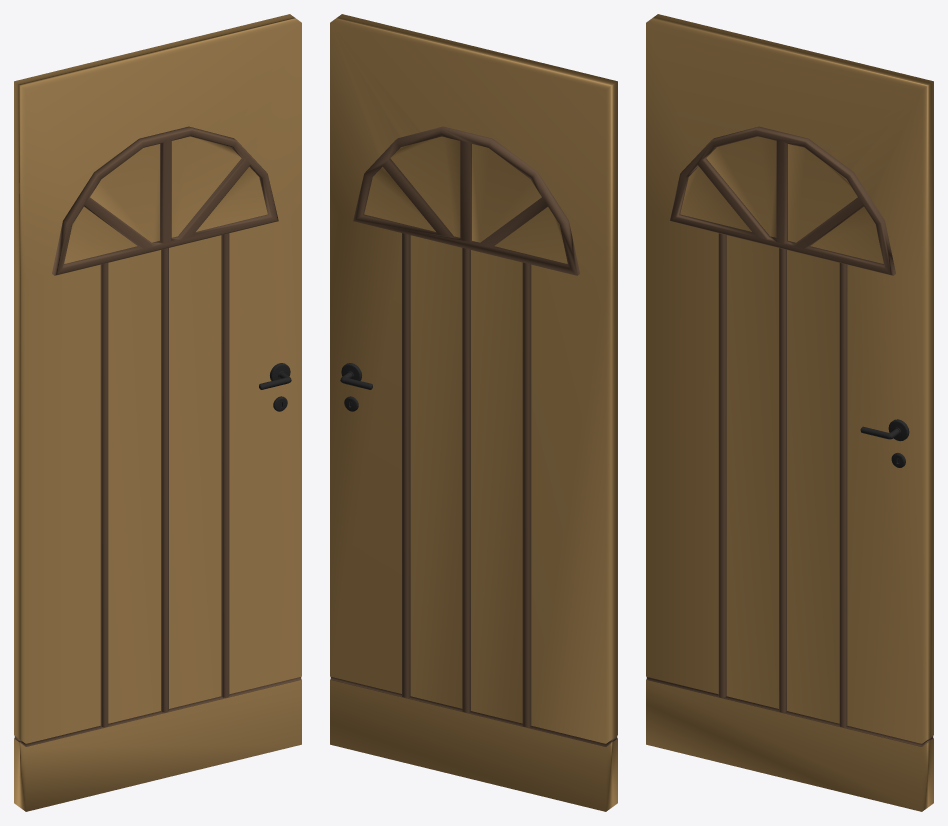
File: 152179c5-f753-44c8-982e-ca8b9ffd5ce2.glb
3 views of the same model, side by side, from view 1: azimuth 30°, elevation 25°; view 2: azimuth 150°, elevation 25°; view 3: azimuth 330°, elevation 25° (orthographic).
Parts seen in each view (by area): view 1: Door.020; view 2: Door.020; view 3: Door.020.
Part boxes in pixels (bbox=[...]): Door.020: bbox=[14, 14, 301, 811]; Door.020: bbox=[330, 14, 617, 811]; Door.020: bbox=[646, 14, 933, 811].
Size of what is drawn, in the model's own units: 0.8628 by 2.16 by 0.1816.
2 materials, 2 textured.
